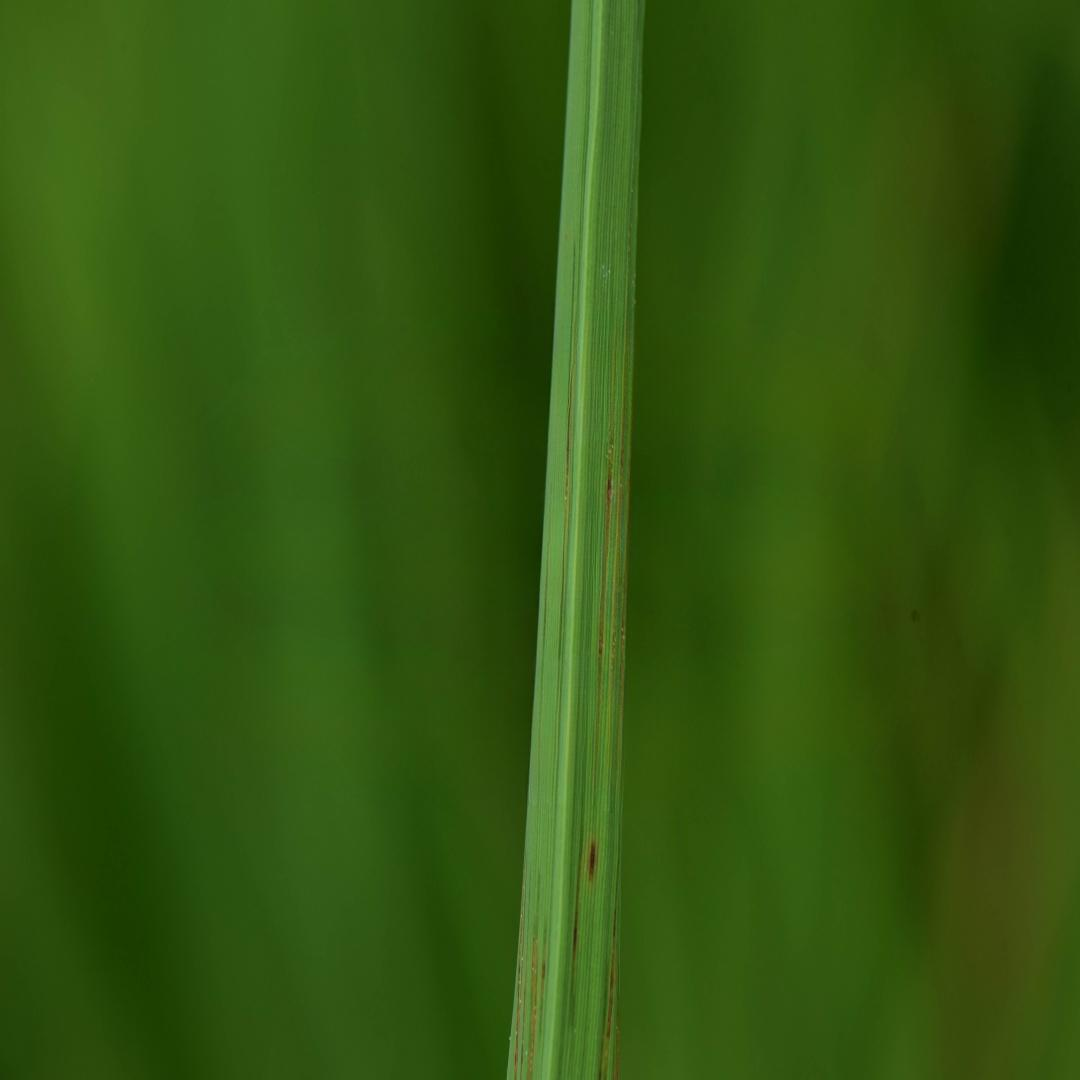BLS: (596, 408, 615, 741), (611, 390, 624, 700), (604, 858, 618, 1079), (569, 825, 583, 1018), (514, 864, 526, 1079), (565, 328, 575, 536), (618, 537, 627, 742), (528, 923, 537, 1079), (539, 918, 546, 1036), (599, 965, 606, 1079), (613, 996, 621, 1079), (520, 974, 526, 1079)
